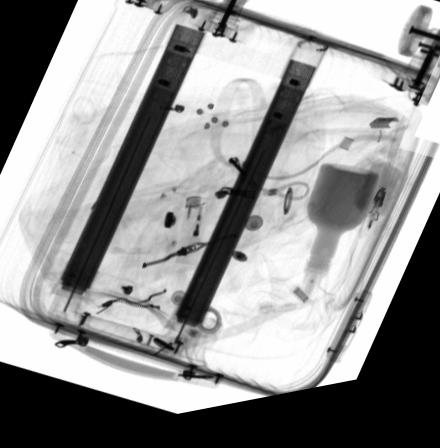Lighter: (174, 203, 208, 273)
